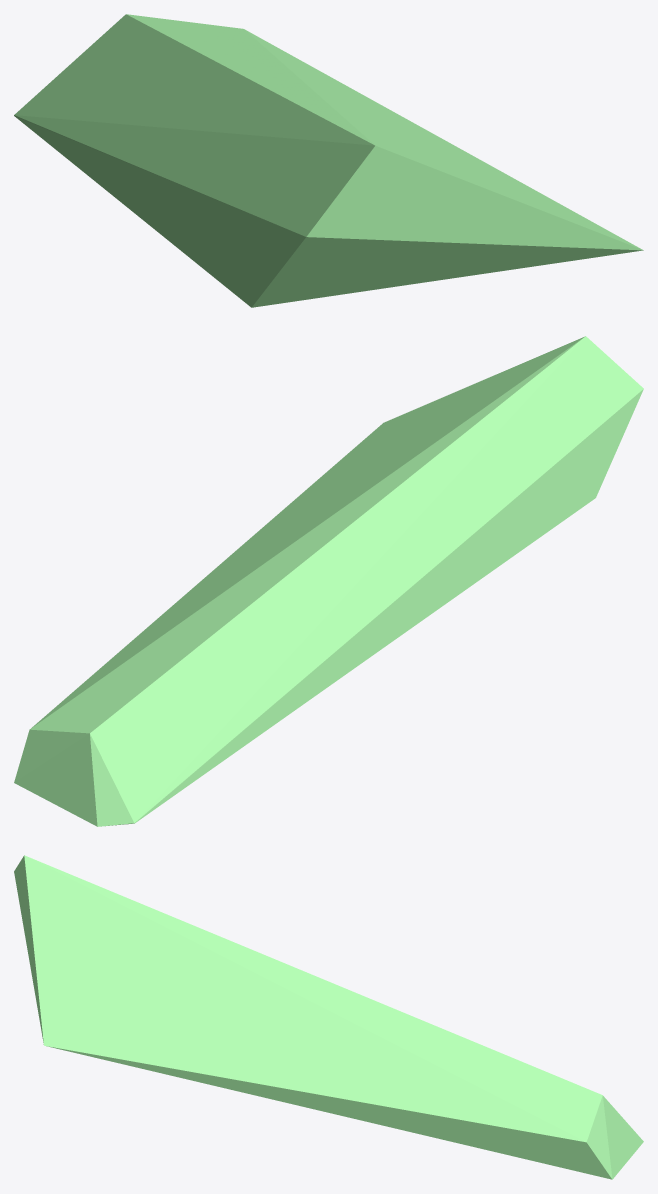
The model's file is dvkr_robot_L3_dx_respondable_TOOL2_coll_3.dae.
3 renders of one model, top to bottom at view 1: azimuth 30°, elevation 25°; view 2: azimuth 150°, elevation 25°; view 3: azimuth 270°, elevation 25°, orthographic. The views are drawn at different scales.
Visible parts, largest first — view 1: Node_0000023514CDADF0; view 2: Node_0000023514CDADF0; view 3: Node_0000023514CDADF0.
Part boxes in pixels (x1,y1,x2,y2): Node_0000023514CDADF0: (14,14,643,307); Node_0000023514CDADF0: (14,336,643,826); Node_0000023514CDADF0: (14,855,643,1179).
Size of the model in its own units: 0.00243 by 0.00213 by 0.00529.
